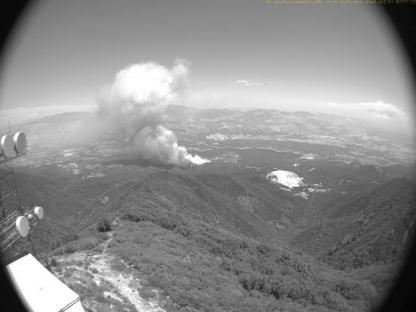smoke: (92, 53, 211, 169)
